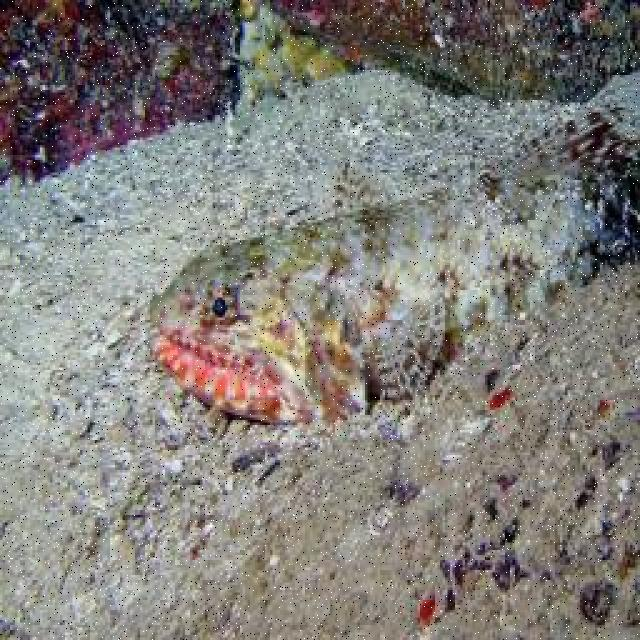fish: (146, 106, 638, 423)
reefs: (0, 0, 258, 187), (266, 0, 638, 105)
